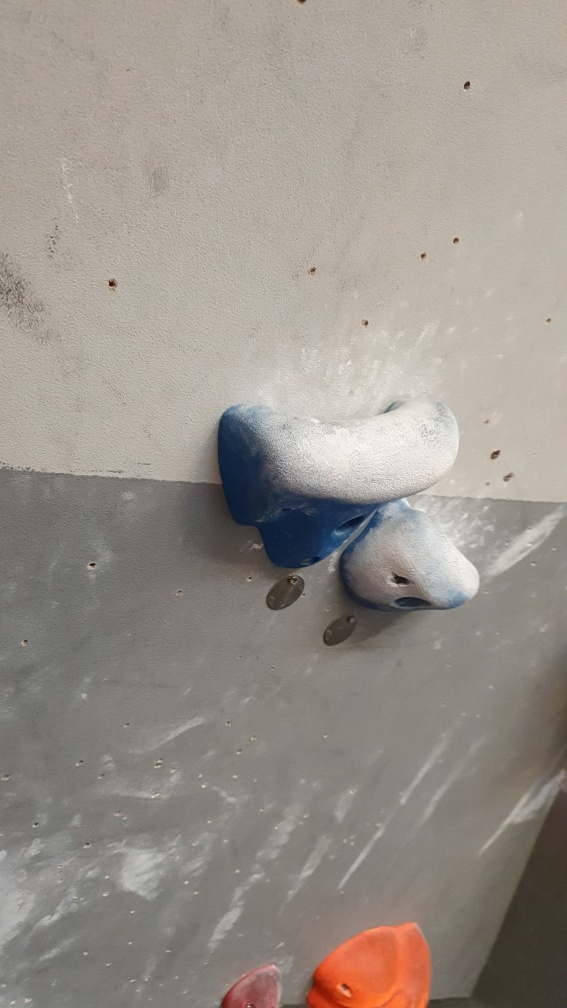Hand Start: (261, 573, 308, 613), (322, 610, 359, 651)
Jug: (219, 394, 462, 567), (340, 494, 482, 619)
